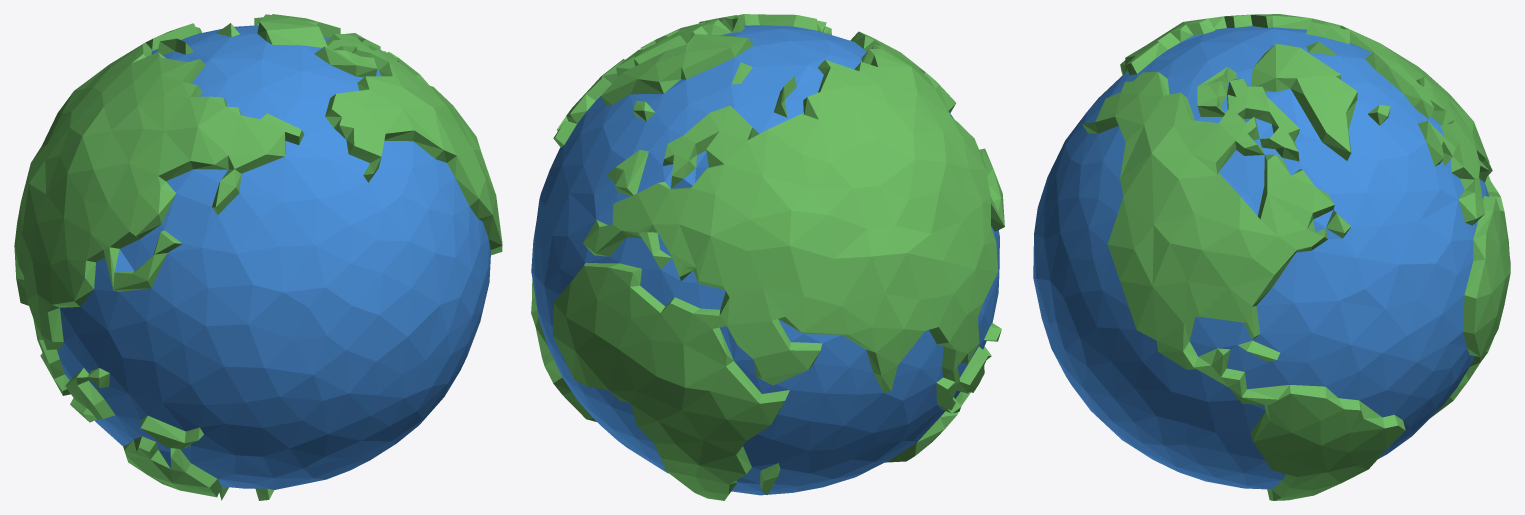
The model's file is Earth.obj.
3 renders of one model, left to right at view 1: azimuth 30°, elevation 25°; view 2: azimuth 150°, elevation 25°; view 3: azimuth 270°, elevation 25°, orthographic.
Visible parts, largest first — view 1: Earth; view 2: Earth; view 3: Earth.
Boxes of the visible parts, x1,y1,x2,y2 form: Earth: (14,14,502,500); Earth: (531,14,1004,500); Earth: (1033,14,1510,500).
Size of the model in its own units: 34.37 by 34.08 by 33.61.
